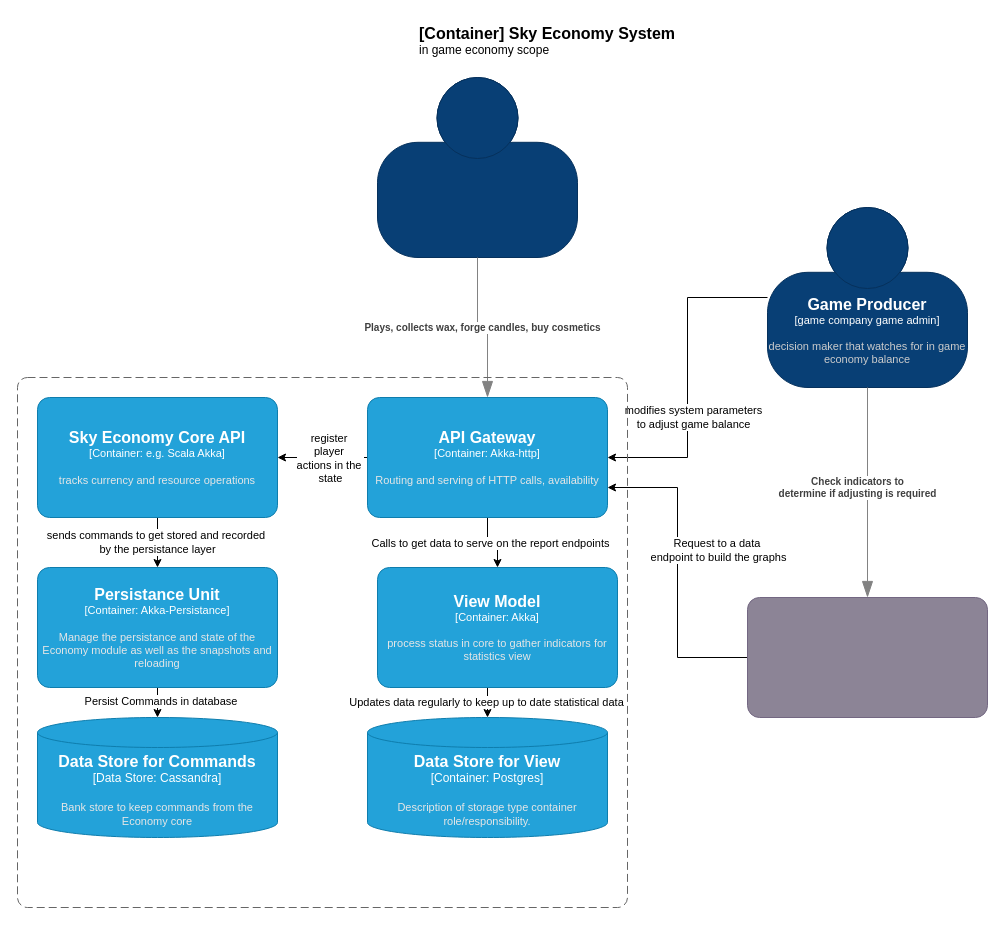
This 1005x925 diagram has some shape labels left out. Here are the shapes that lost their labels. From the top down, the box of each, then its label:
(376, 76, 578, 258): Player [Online User] An online indivudual identified by its email address
(16, 376, 628, 908): Sky Economy Module [Backend API Scala Akka]
(746, 596, 988, 718): reporting tool [Graphana] tool to visualize economy data
